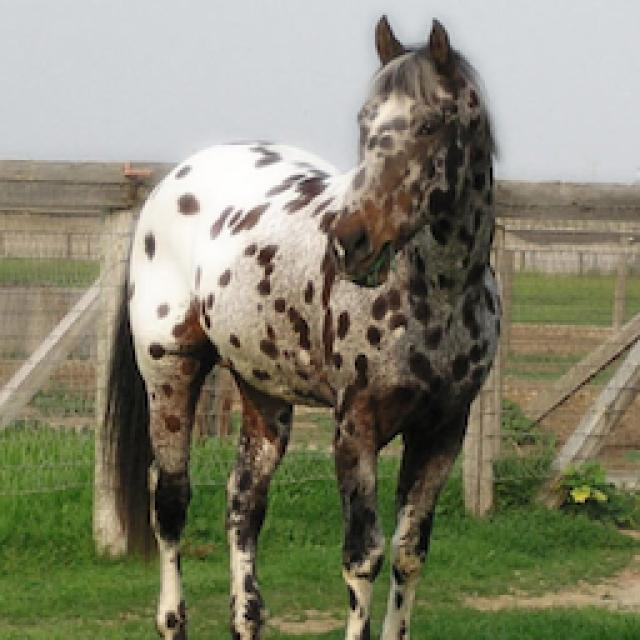Horse: (85, 10, 513, 638)
